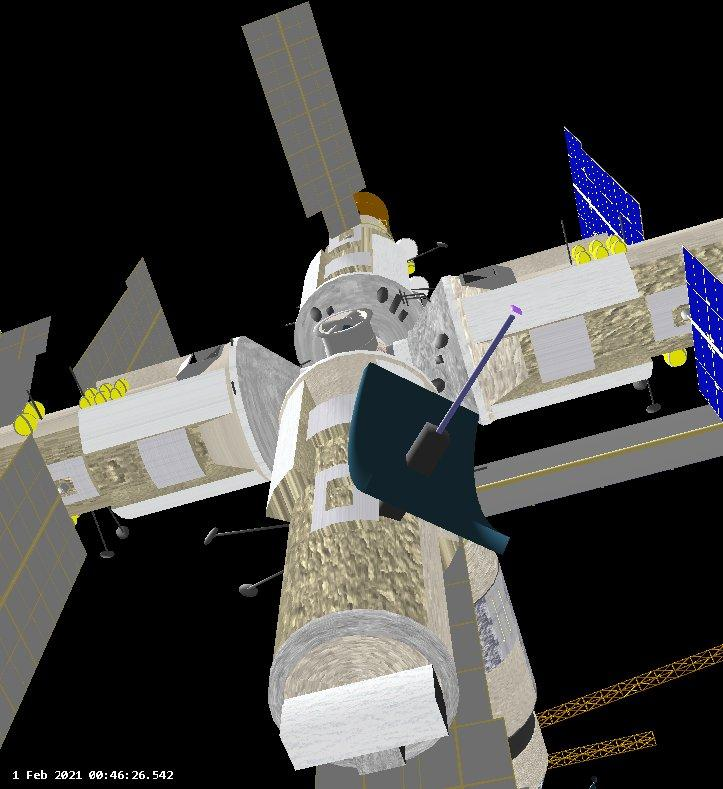antenna: (345, 298, 523, 556), (234, 575, 263, 605), (198, 525, 222, 551), (112, 520, 137, 542), (94, 544, 123, 561), (432, 238, 451, 253)
body: (263, 235, 463, 777), (427, 213, 723, 428), (0, 334, 298, 528)
solar: (239, 0, 369, 240), (0, 427, 91, 759), (70, 253, 185, 421), (559, 118, 649, 293), (679, 244, 723, 427), (0, 313, 56, 434)
